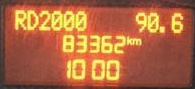-: (158, 24, 166, 33)
0: (71, 58, 85, 80), (91, 58, 104, 81), (106, 58, 119, 80), (146, 10, 158, 32), (75, 10, 86, 30), (63, 9, 73, 30), (50, 10, 61, 29)
1: (65, 57, 71, 79)
2: (38, 9, 50, 30), (113, 34, 125, 53)
3: (75, 34, 86, 53), (89, 33, 99, 53)
6: (169, 12, 182, 34), (100, 32, 111, 53)
8: (61, 32, 73, 51)
9: (135, 10, 146, 32)
X: (13, 8, 25, 31), (26, 8, 38, 31), (132, 37, 142, 45), (126, 34, 132, 45)
